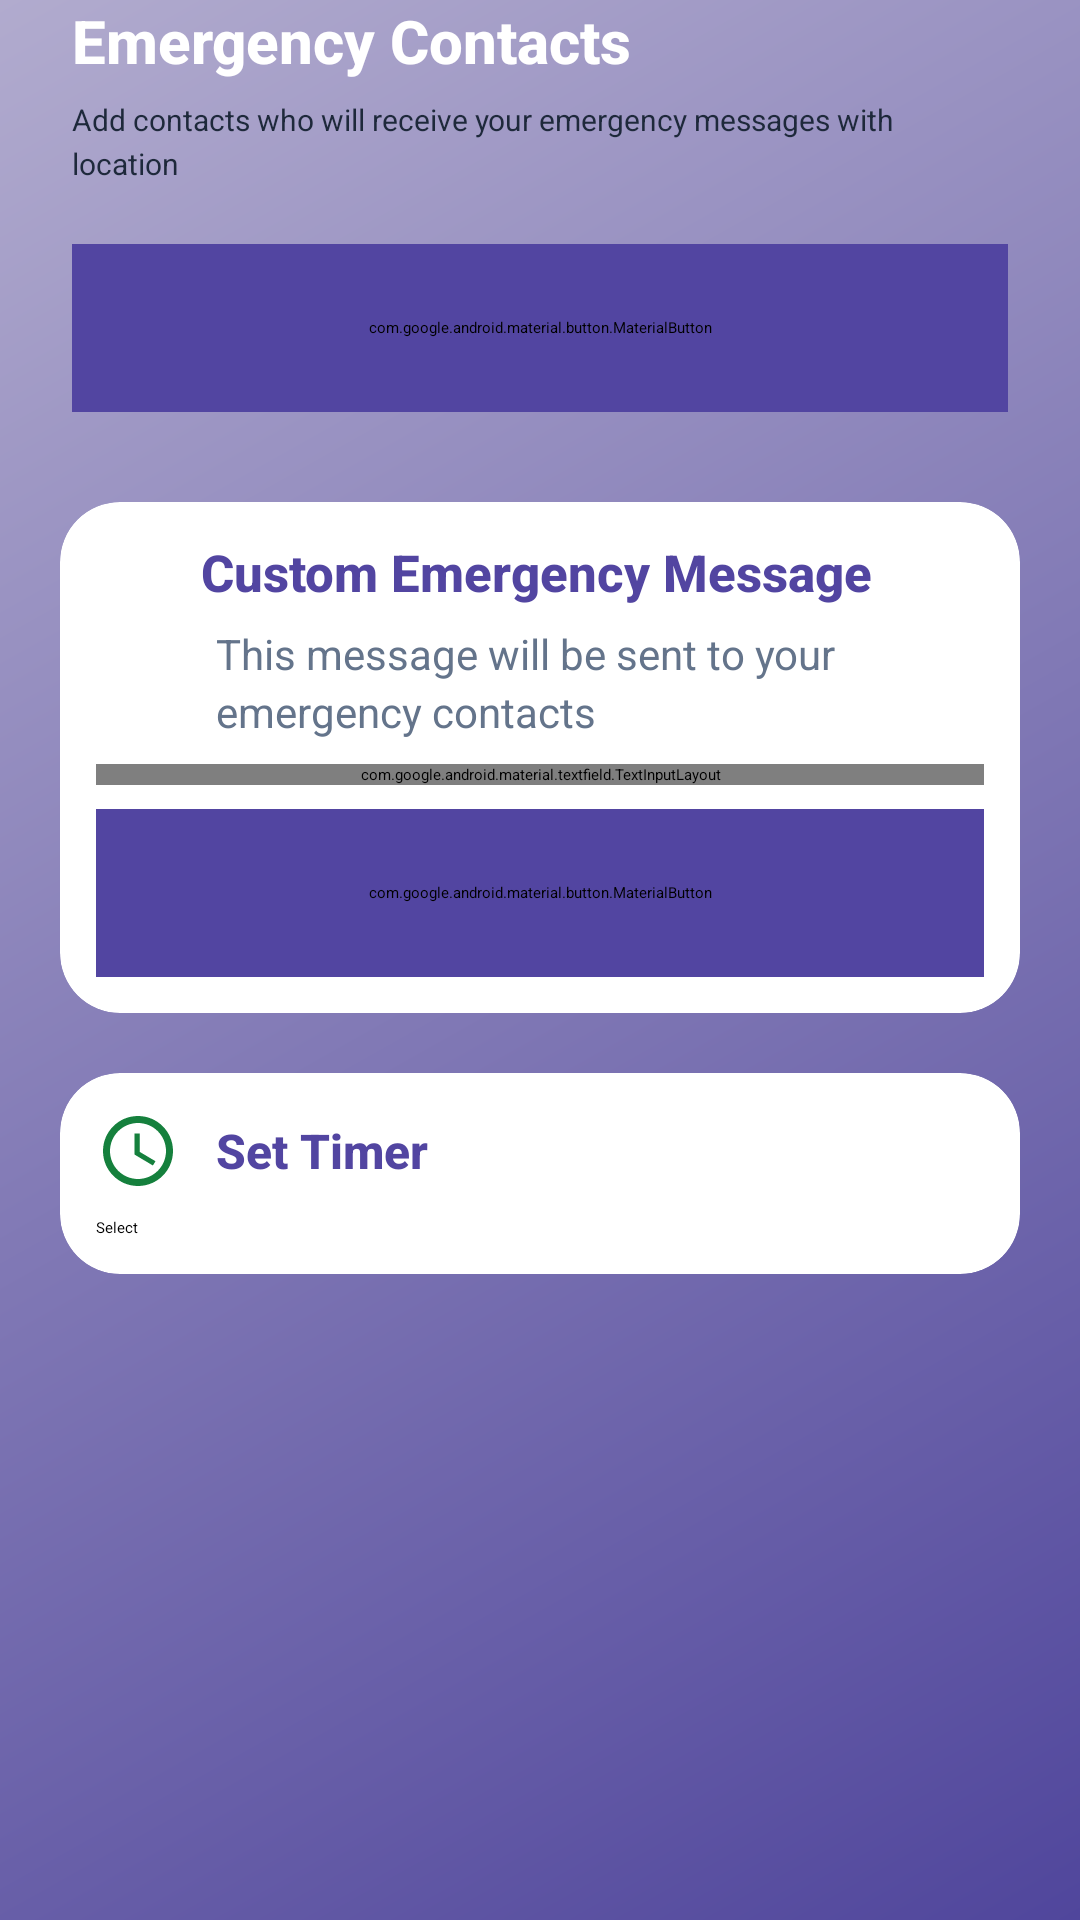

Icons on this 1080x1920 Android screen, each with the point to tap as point (x, y):
clock: point (138, 1151)
